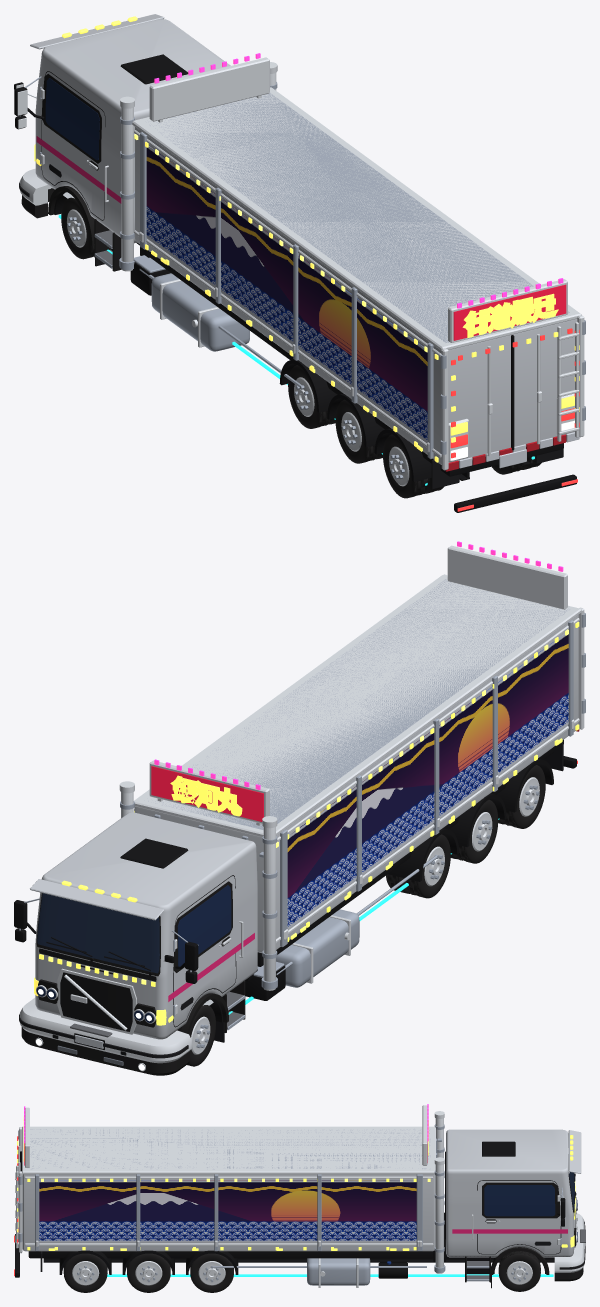
File: dekotora_truck_longo_classica.glb
3 renders of one model, top to bottom at view 1: azimuth 30°, elevation 25°; view 2: azimuth 150°, elevation 25°; view 3: azimuth 270°, elevation 25°, orthographic. The views are drawn at different scales.
Visible parts, largest first — view 1: truck_chrome, truck_steel, truck_paint_white_panel, truck_mural, truck_plastic_black, truck_lamp_amber, truck_glass, truck_plastic_trim, wheel_r_L_1.5_1.06, wheel_r_L_3.0_1.06, wheel_r_L_4.5_1.06, truck_andon_panel (+5 smaller); view 2: truck_chrome, truck_paint_white_panel, truck_steel, truck_mural, truck_plastic_black, truck_glass_wind, truck_plastic_trim, truck_lamp_amber, truck_grille_honeycomb, truck_glass, truck_andon_panel, wheel_r_L_4.5_1.06 (+5 smaller); view 3: truck_chrome, truck_mural, truck_paint_white_panel, truck_steel, truck_plastic_black, truck_glass, truck_plastic_trim, wheel_f_R, wheel_r_R_1.5_1.06, wheel_r_R_3.0_1.06, wheel_r_R_4.5_1.06, truck_lamp_amber (+3 smaller).
Boxes of the visible parts, x1=… form: truck_chrome: x1=16, y1=57, x2=584, y2=470; truck_steel: x1=19, y1=76, x2=585, y2=459; truck_paint_white_panel: x1=30, y1=14, x2=577, y2=464; truck_mural: x1=146, y1=146, x2=427, y2=442; truck_plastic_black: x1=14, y1=54, x2=576, y2=512; truck_lamp_amber: x1=34, y1=16, x2=579, y2=462; truck_glass: x1=45, y1=78, x2=99, y2=160; truck_plastic_trim: x1=21, y1=73, x2=121, y2=271; wheel_r_L_1.5_1.06: x1=383, y1=434, x2=429, y2=498; wheel_r_L_3.0_1.06: x1=335, y1=399, x2=379, y2=463; wheel_r_L_4.5_1.06: x1=288, y1=365, x2=331, y2=428; truck_andon_panel: x1=453, y1=284, x2=566, y2=340; truck_chrome: x1=20, y1=545, x2=584, y2=1071; truck_paint_white_panel: x1=30, y1=615, x2=578, y2=1039; truck_steel: x1=19, y1=579, x2=585, y2=1030; truck_mural: x1=287, y1=633, x2=568, y2=929; truck_plastic_black: x1=14, y1=739, x2=576, y2=1055; truck_glass_wind: x1=37, y1=893, x2=159, y2=973; truck_plastic_trim: x1=21, y1=881, x2=245, y2=1075; truck_lamp_amber: x1=34, y1=622, x2=579, y2=1025; truck_grille_honeycomb: x1=60, y1=972, x2=132, y2=1031; truck_glass: x1=36, y1=885, x2=231, y2=1022; truck_andon_panel: x1=151, y1=766, x2=263, y2=821; wheel_r_L_4.5_1.06: x1=404, y1=834, x2=450, y2=898; truck_chrome: x1=15, y1=1105, x2=584, y2=1287; truck_mural: x1=39, y1=1180, x2=416, y2=1242; truck_paint_white_panel: x1=22, y1=1129, x2=581, y2=1257; truck_steel: x1=18, y1=1124, x2=564, y2=1285; truck_plastic_black: x1=15, y1=1141, x2=585, y2=1278; truck_glass: x1=484, y1=1185, x2=577, y2=1241; truck_plastic_trim: x1=465, y1=1174, x2=583, y2=1282; wheel_f_R: x1=498, y1=1251, x2=540, y2=1291; wheel_r_R_1.5_1.06: x1=63, y1=1253, x2=107, y2=1292; wheel_r_R_3.0_1.06: x1=127, y1=1253, x2=170, y2=1292; wheel_r_R_4.5_1.06: x1=190, y1=1253, x2=233, y2=1292; truck_lamp_amber: x1=17, y1=1117, x2=575, y2=1250.
Bounding box in the file's own units: 3.33 × 3.95 × 13.57.
25 materials, 9 textured.
